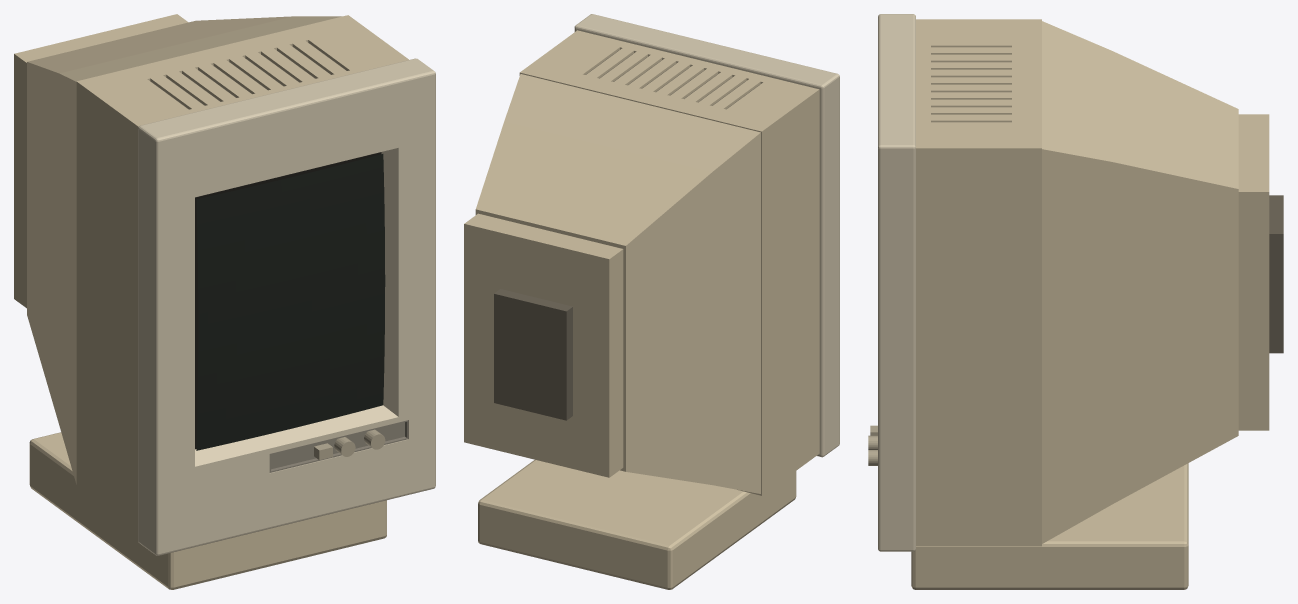
Rendered from crt-f.glb.
3 views of the same model, side by side, from view 1: azimuth 30°, elevation 25°; view 2: azimuth 150°, elevation 25°; view 3: azimuth 270°, elevation 25° (orthographic). The views are drawn at different scales.
Parts seen in each view (by area): view 1: bezel, glass, shell, tube, plinth, tail, ctl-liner, glass-back; view 2: tube, shell, tail, plinth, bezel, neck; view 3: tube, shell, bezel, plinth, tail, neck.
Part boxes in pixels (x1=…): bezel: x1=138, y1=58, x2=435, y2=555; glass: x1=196, y1=154, x2=385, y2=450; shell: x1=76, y1=15, x2=408, y2=534; tube: x1=27, y1=16, x2=341, y2=484; plinth: x1=29, y1=432, x2=386, y2=589; tail: x1=14, y1=14, x2=188, y2=308; ctl-liner: x1=269, y1=420, x2=408, y2=472; glass-back: x1=195, y1=152, x2=381, y2=449; tube: x1=475, y1=74, x2=760, y2=493; shell: x1=519, y1=30, x2=819, y2=495; tail: x1=464, y1=213, x2=623, y2=477; plinth: x1=478, y1=459, x2=796, y2=589; bezel: x1=574, y1=14, x2=839, y2=457; neck: x1=494, y1=289, x2=572, y2=420; tube: x1=1042, y1=21, x2=1238, y2=543; shell: x1=916, y1=19, x2=1041, y2=546; bezel: x1=878, y1=14, x2=915, y2=551; plinth: x1=911, y1=463, x2=1188, y2=589; tail: x1=1238, y1=114, x2=1269, y2=430; neck: x1=1269, y1=195, x2=1283, y2=353.
Size of the model in its own units: 0.33 by 0.532 by 0.435.
